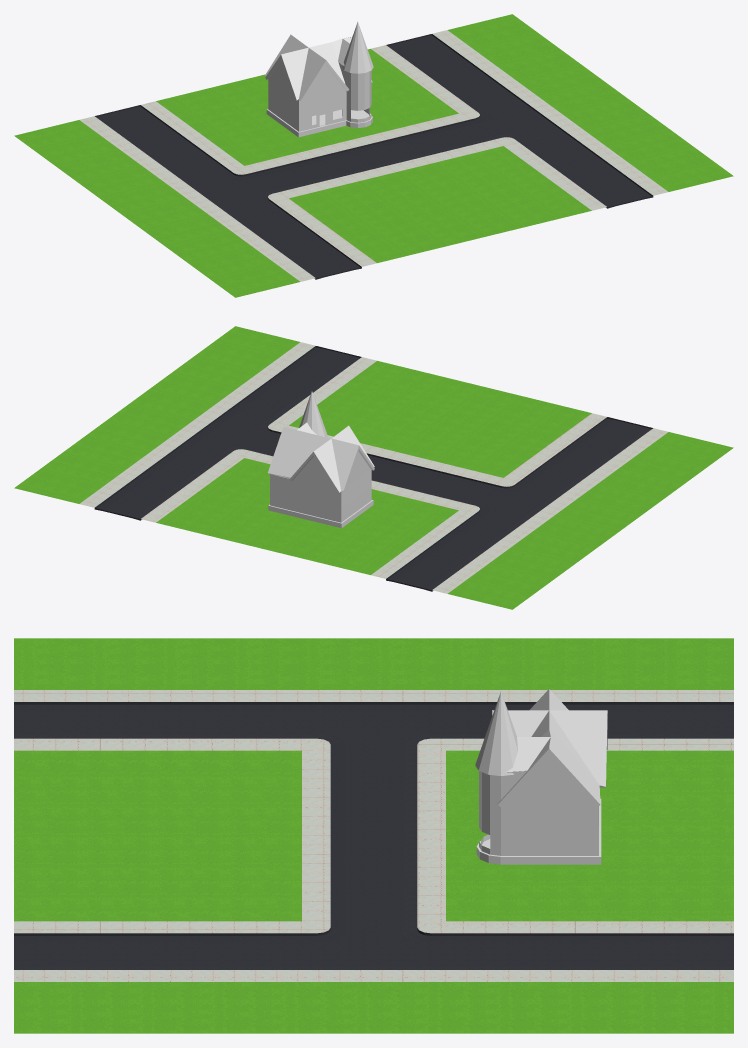
Rendered from testMapPR1.glb.
3 views of the same model, one above another, from view 1: azimuth 30°, elevation 25°; view 2: azimuth 150°, elevation 25°; view 3: azimuth 270°, elevation 25° (orthographic). The views are drawn at different scales.
Parts seen in each view (by area): view 1: Plane, Floor.001, Floor.002, Floor.003; view 2: Plane, Floor.002, Floor.001, Floor.003; view 3: Plane, Floor.001, Floor.002, Floor.003.
Part boxes in pixels (x1,y1,x2,y2): Plane: [14, 14, 733, 297]; Floor.001: [268, 60, 371, 131]; Floor.002: [265, 21, 373, 102]; Floor.003: [266, 109, 372, 137]; Plane: [14, 326, 733, 609]; Floor.002: [267, 391, 374, 493]; Floor.001: [270, 451, 371, 522]; Floor.003: [268, 500, 373, 528]; Plane: [14, 638, 733, 1033]; Floor.001: [479, 755, 598, 855]; Floor.002: [475, 689, 607, 807]; Floor.003: [476, 798, 601, 864].
Bounding box in the file's own units: 1269 × 266 × 976.
3 materials, 3 textured.
